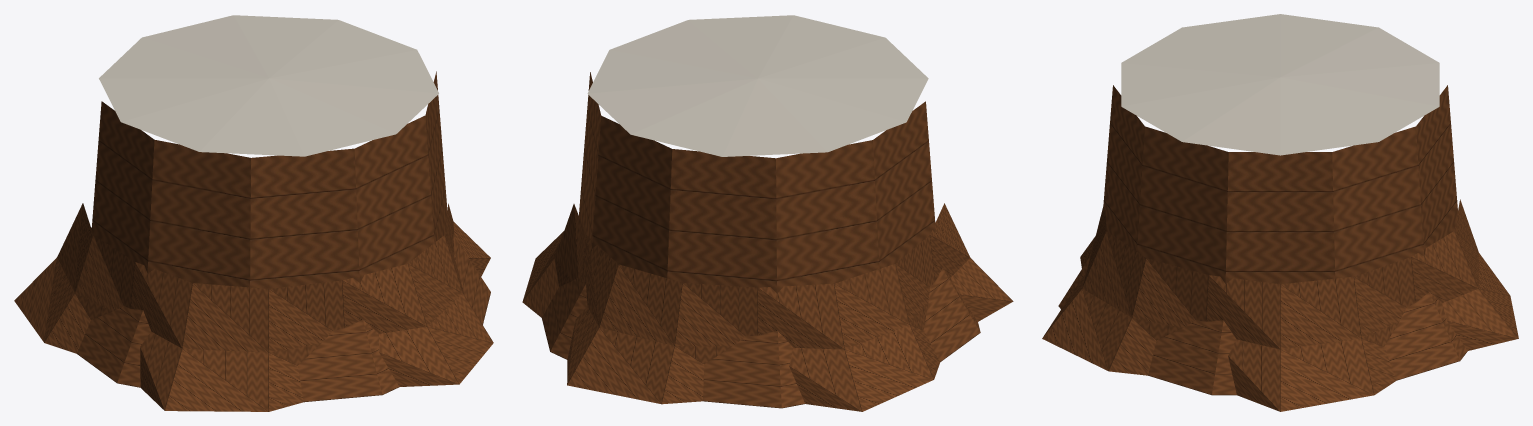
The model's file is dense-temperate-forest-flora-stump-small-ead80fc2__28420.glb.
3 renders of one model, left to right at view 1: azimuth 30°, elevation 25°; view 2: azimuth 150°, elevation 25°; view 3: azimuth 270°, elevation 25°, orthographic. The views are drawn at different scales.
Visible parts, largest first — view 1: stump-small; view 2: stump-small; view 3: stump-small.
Boxes of the visible parts, x1=… form: stump-small: x1=14, y1=15, x2=493, y2=411; stump-small: x1=522, y1=15, x2=1013, y2=411; stump-small: x1=1042, y1=14, x2=1518, y2=411.
Bounding box in the file's own units: 0.7034 × 0.372 × 0.7034.
2 materials, 1 textured.
